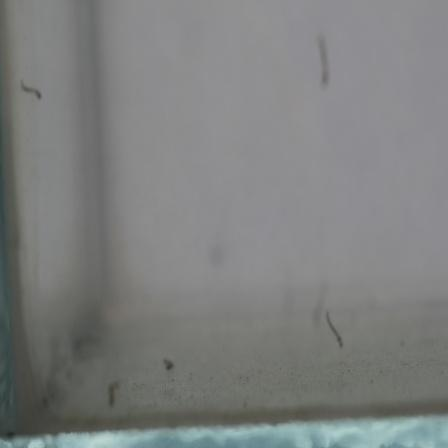Jentik-Nyamuk: (323, 311, 345, 351), (158, 353, 180, 374)
